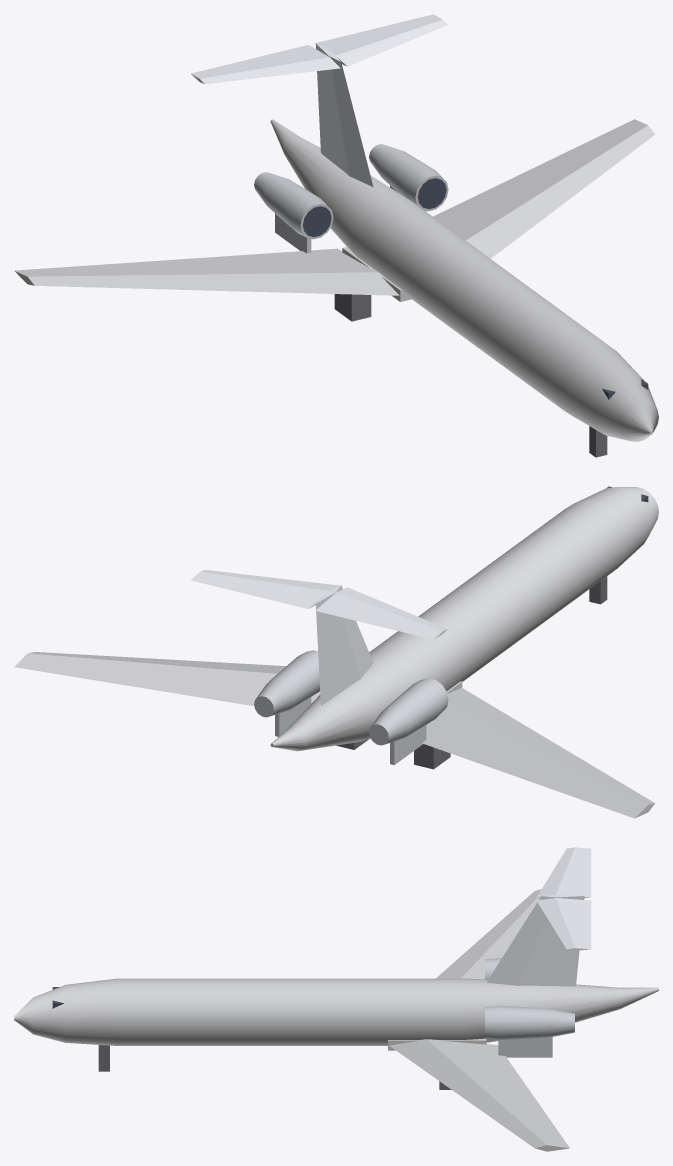
The model's file is bizjet.glb.
The picture shows the model from 3 angles, top to bottom: view 1: azimuth 30°, elevation 25°; view 2: azimuth 150°, elevation 25°; view 3: azimuth 270°, elevation 25°; orthographic projection. The views are drawn at different scales.
Visible parts, largest first — view 1: aircraft; view 2: aircraft; view 3: aircraft.
Part boxes in pixels (box(x1,y1,x2,y2)): aircraft: box(14, 14, 658, 457); aircraft: box(14, 486, 658, 818); aircraft: box(14, 847, 658, 1151).
Bounding box in the file's own units: 18.9 × 5.93 × 20.
